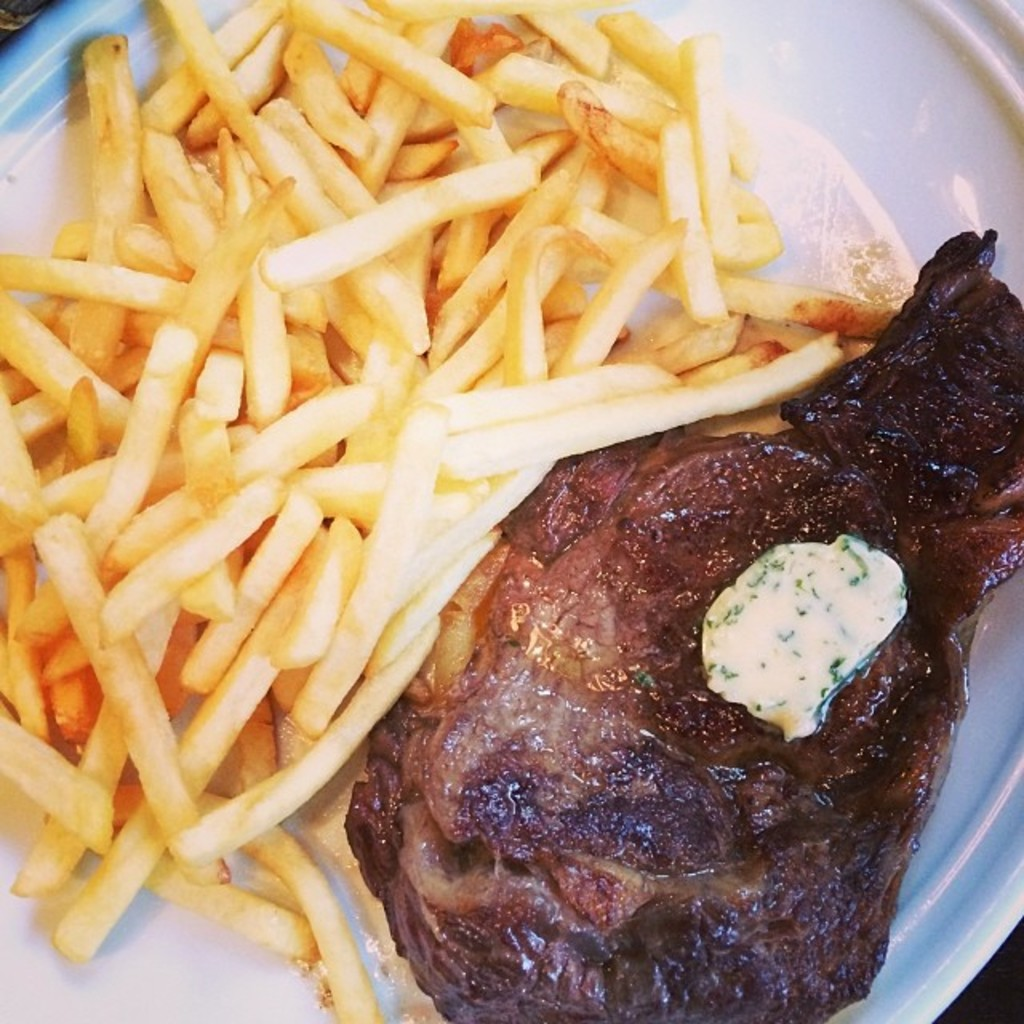French fries: (0, 0, 905, 1024)
